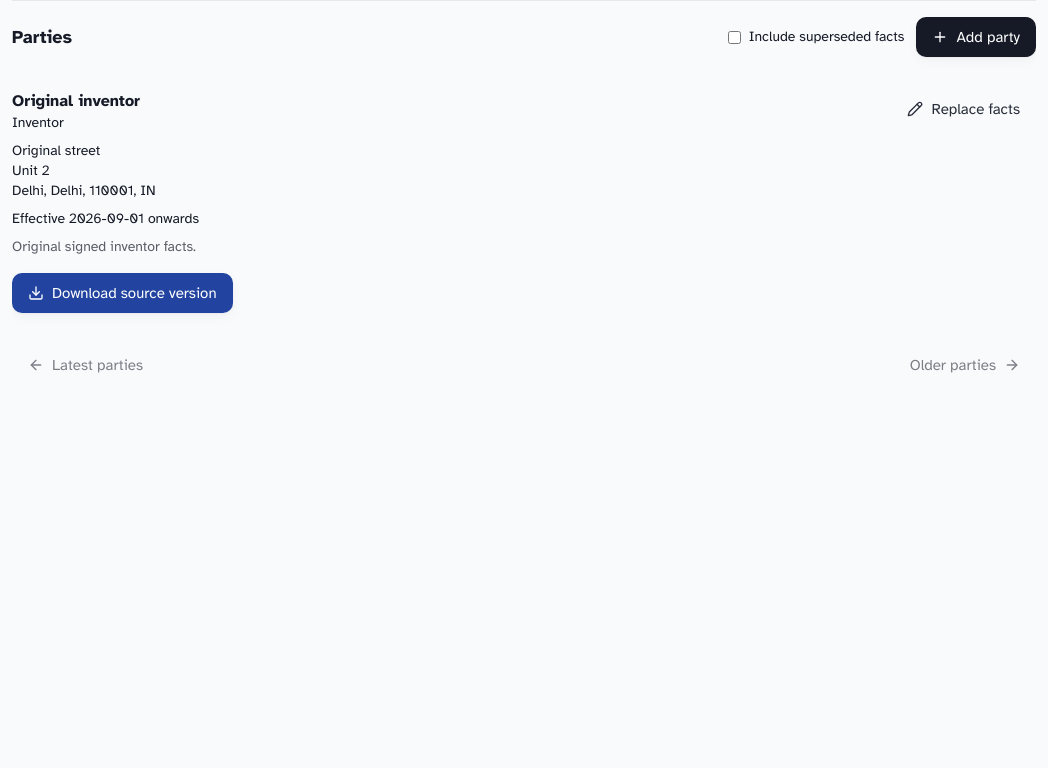
Scenario: Sourced patent party workspace › cancels an older in-flight list read so it cannot erase a successful replacement
The image size is (1048, 768).
Click the button "Replace facts" at (964, 109), box [891, 89, 1036, 129]
(page scrolled)
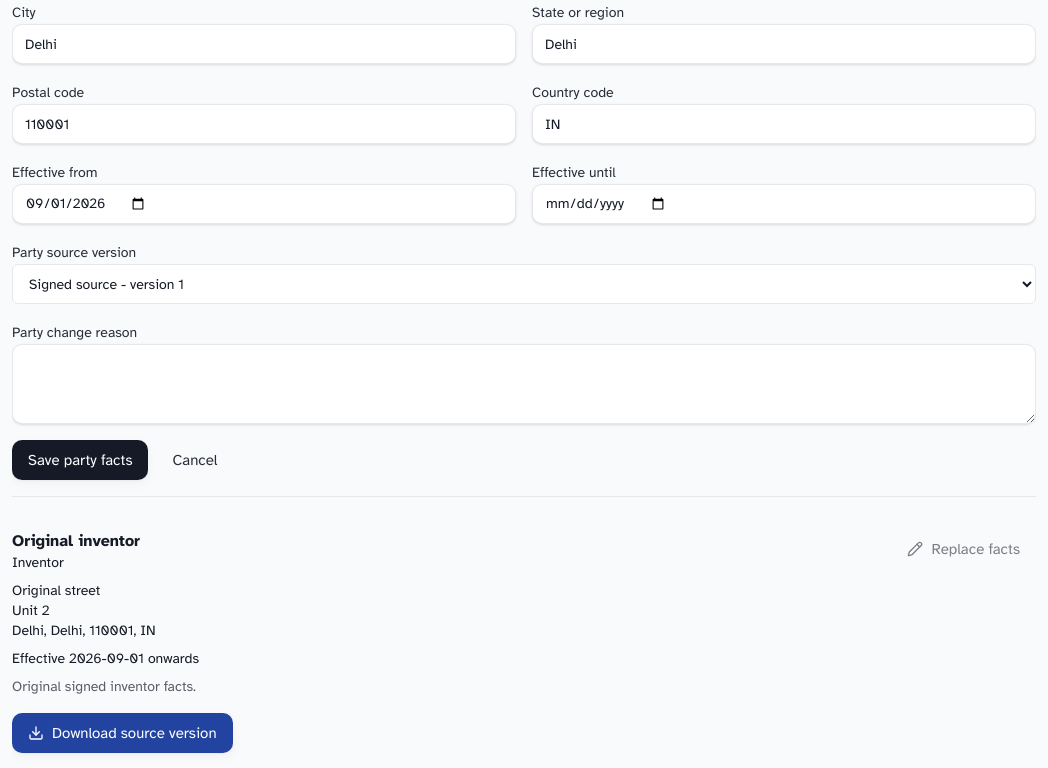
Type "Correct the source transcription." into the text box labelled "Party change reason" at (524, 384), box [12, 344, 1036, 424]
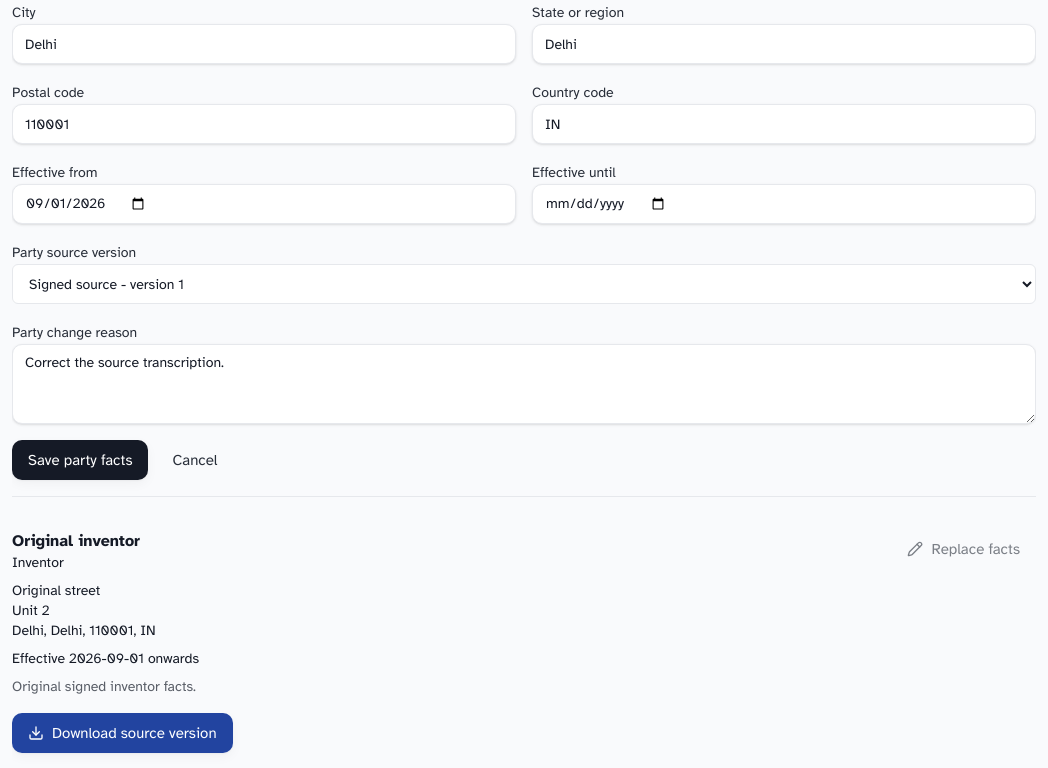
Click the button "Save party facts" at (80, 460), box [12, 440, 148, 480]
(page scrolled)
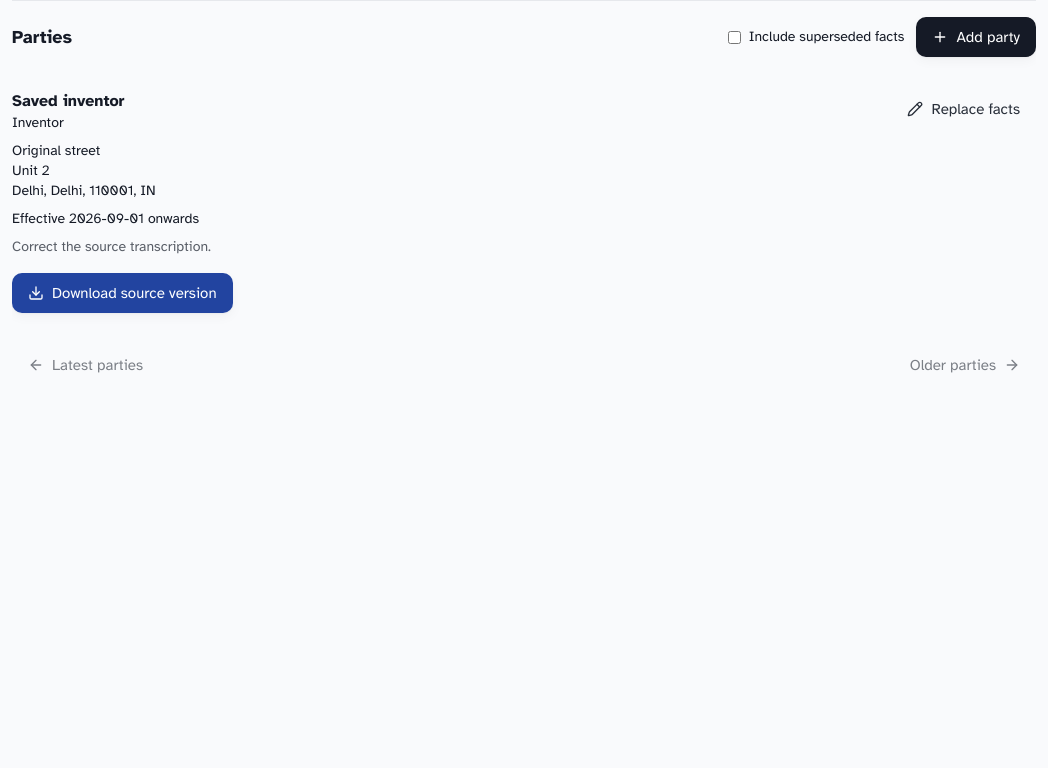
Check: the heading "Saved inventor" is shown, box [12, 91, 125, 111]
Check: the heading "Original inventor" is gone
